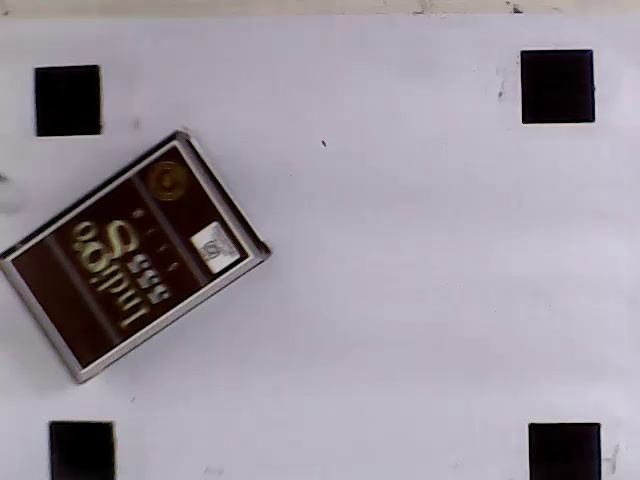BEX: (5, 143, 252, 371)
